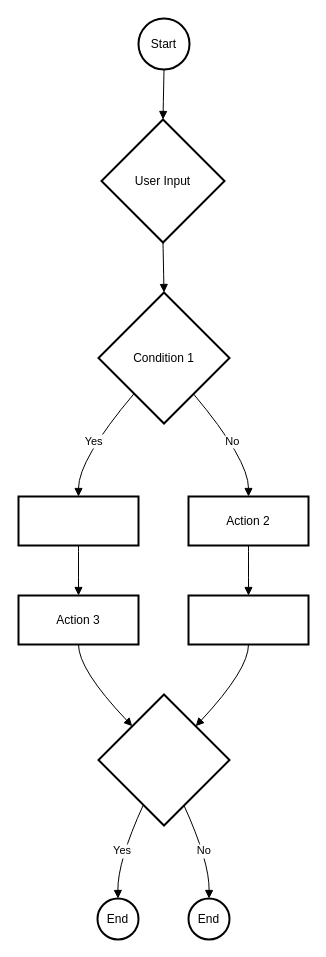
Some shapes in this 326 by 957 pixel diagram are drawn without their labels. Here are the shapes that lost their labels. From the top down, the centre of each, then its label:
At (x=78, y=520): "Action 1".
At (x=248, y=619): "Action 4".
At (x=163, y=759): "Condition 2".
